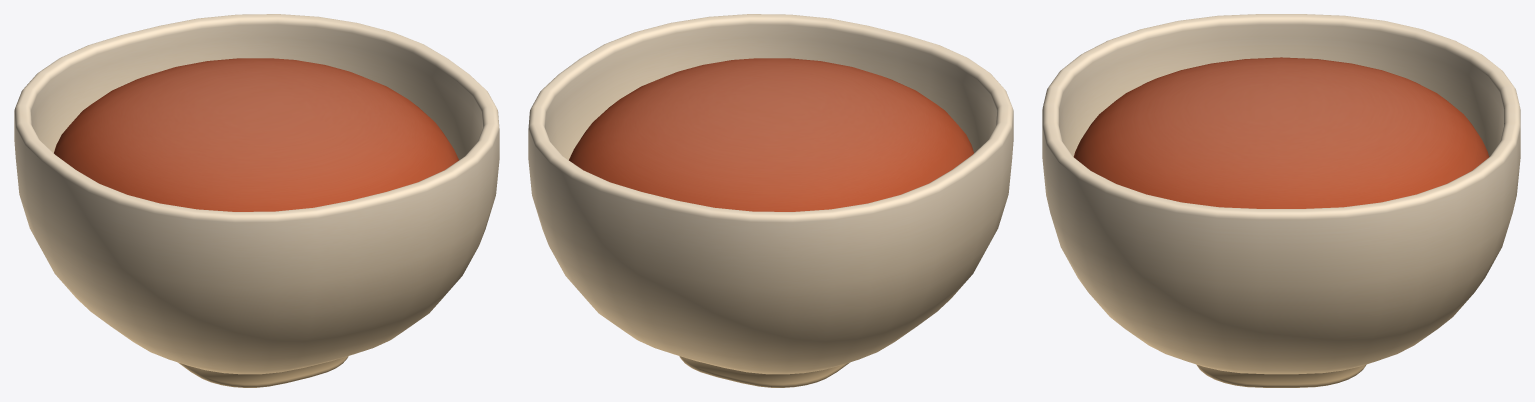
File: Baguette_Dough_Bowl.fbx
3 views of the same model, side by side, from view 1: azimuth 30°, elevation 25°; view 2: azimuth 150°, elevation 25°; view 3: azimuth 270°, elevation 25° (orthographic).
Parts seen in each view (by area): view 1: Baguette_Dough_Bowl; view 2: Baguette_Dough_Bowl; view 3: Baguette_Dough_Bowl.
Boxes of the visible parts, <box> form: Baguette_Dough_Bowl: <box>14,14,499,387</box>; Baguette_Dough_Bowl: <box>528,14,1013,387</box>; Baguette_Dough_Bowl: <box>1042,14,1520,387</box>.
Size of the model in its own units: 32.71 by 18.93 by 32.71.
